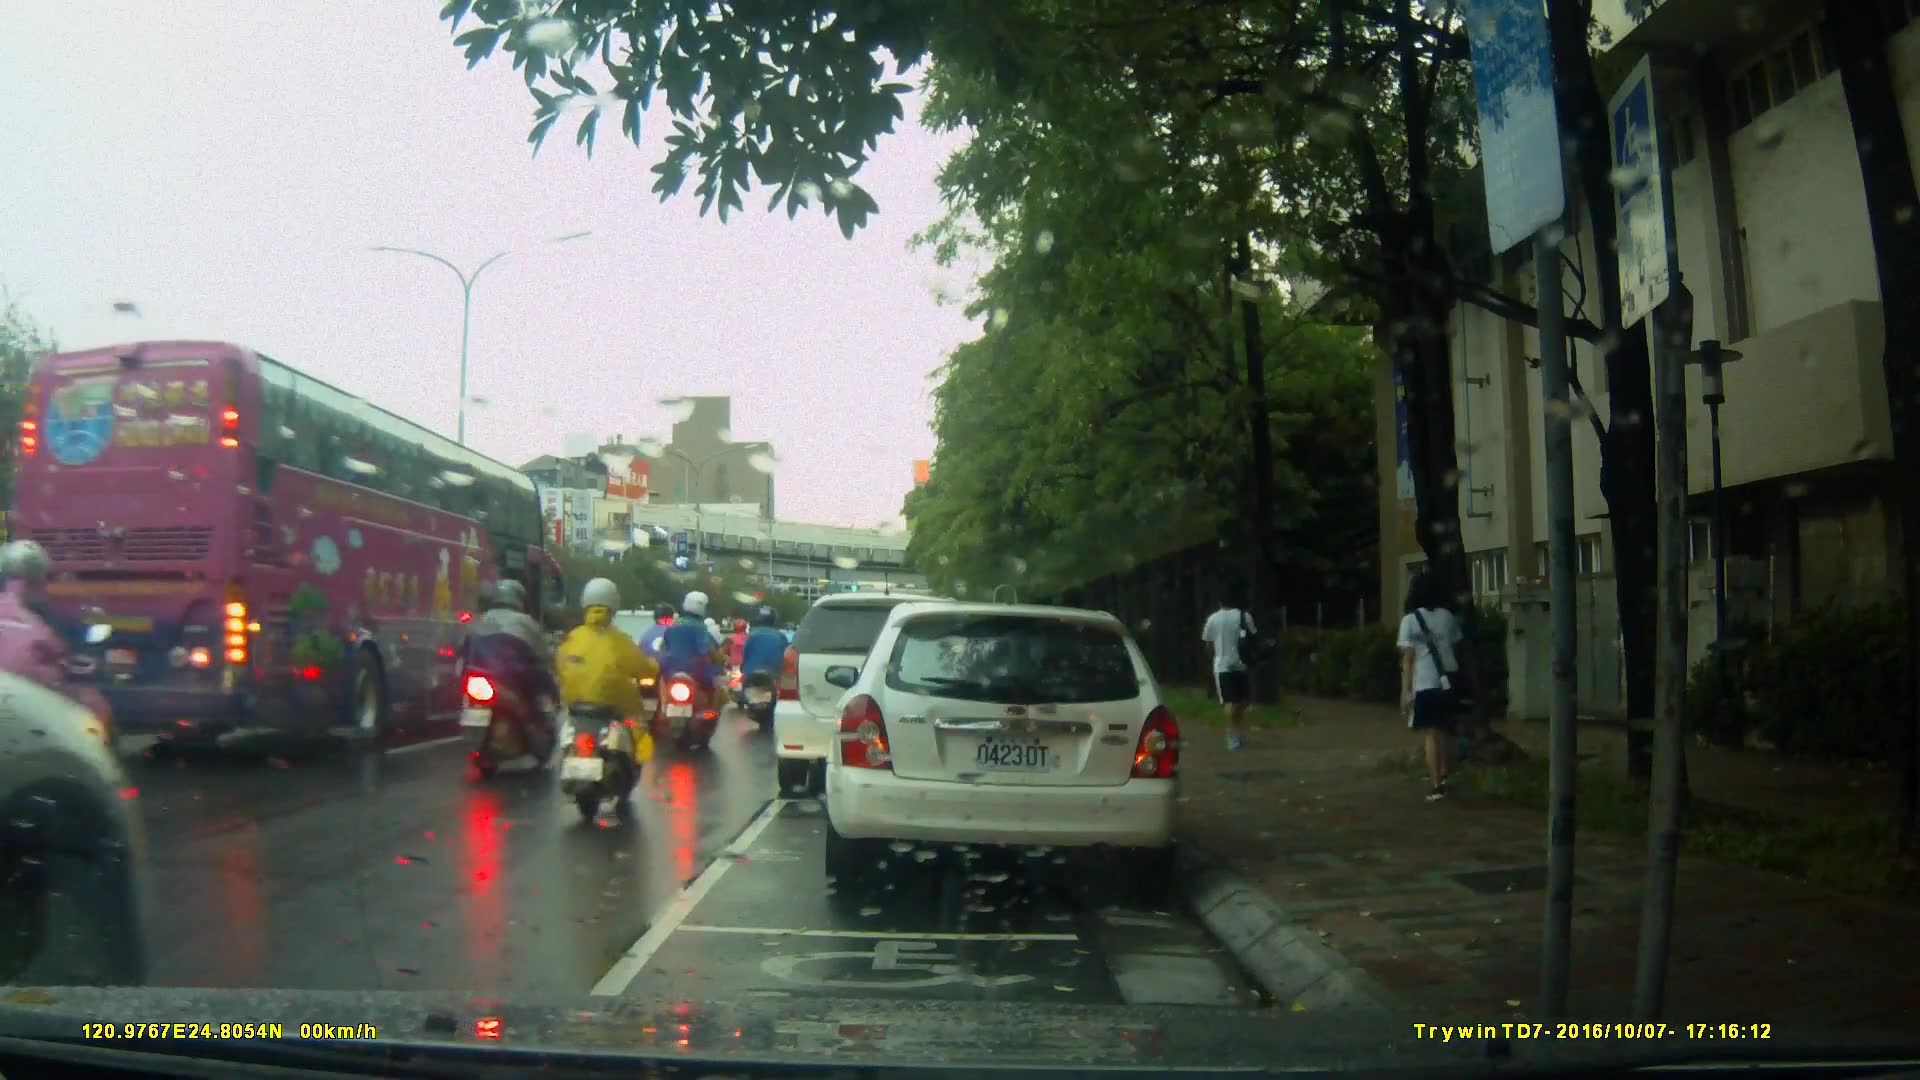pedestrian: (1381, 572, 1469, 811), (1189, 579, 1256, 755)
rider: (1, 537, 132, 859), (558, 576, 652, 827), (465, 574, 565, 780), (453, 590, 527, 761), (657, 586, 723, 772), (736, 605, 800, 740), (639, 598, 691, 733), (722, 617, 764, 700), (780, 625, 812, 687)
vehicle: (12, 337, 550, 750), (835, 594, 1194, 898), (776, 590, 1026, 784), (563, 608, 719, 737)
